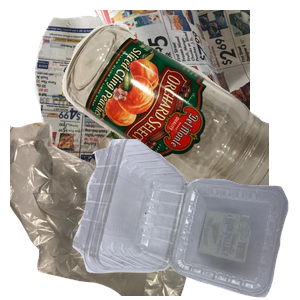glass: (60, 21, 300, 201)
paper: (32, 10, 272, 190)
plastic: (70, 139, 300, 300)
trash: (10, 120, 231, 300)
